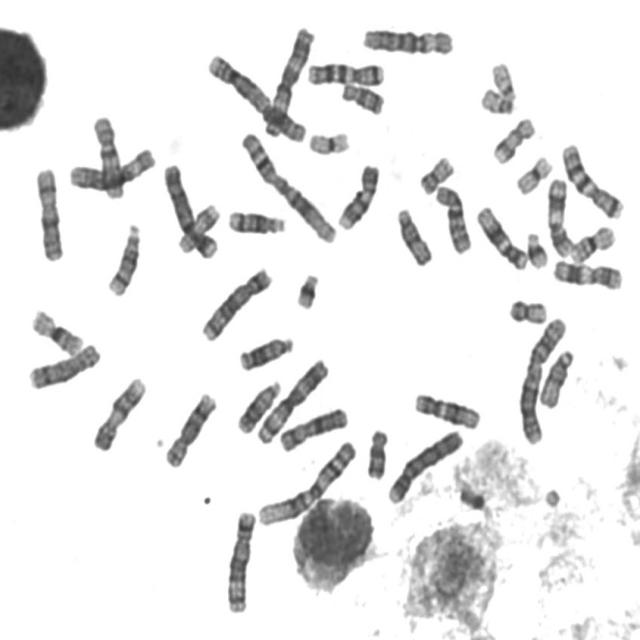A1: (237, 128, 339, 246), (254, 436, 359, 528)
A2: (202, 50, 308, 144), (515, 312, 569, 447)
A3: (254, 354, 331, 446), (261, 21, 316, 140)
B4: (384, 425, 465, 505), (160, 159, 220, 260)
B5: (198, 263, 273, 343), (222, 505, 257, 615)
C10: (88, 110, 126, 201), (431, 181, 473, 256)
C11: (549, 256, 624, 292), (544, 174, 575, 258)
C12: (472, 201, 530, 272), (410, 388, 482, 431)
C6: (65, 142, 158, 192), (359, 23, 456, 58)
C7: (558, 138, 626, 221), (303, 57, 386, 88)
C8: (161, 388, 218, 470), (23, 339, 102, 392)
C9: (89, 373, 148, 453), (334, 160, 382, 231)
D13: (234, 374, 284, 436), (236, 331, 296, 373)
D14: (104, 218, 142, 298), (224, 205, 288, 237)
D15: (393, 203, 434, 268), (536, 345, 576, 411)
E16: (26, 304, 85, 357), (567, 220, 617, 266)
E17: (175, 200, 222, 255), (489, 113, 537, 166)
E18: (337, 78, 386, 117), (363, 424, 390, 481)
F19: (512, 152, 554, 196), (306, 126, 352, 157)
F20: (416, 152, 456, 196), (505, 295, 549, 325)
G21: (292, 269, 321, 311), (522, 228, 550, 270)
G22: (491, 61, 516, 101), (479, 87, 516, 114)
X: (276, 402, 350, 453), (31, 162, 65, 264)
